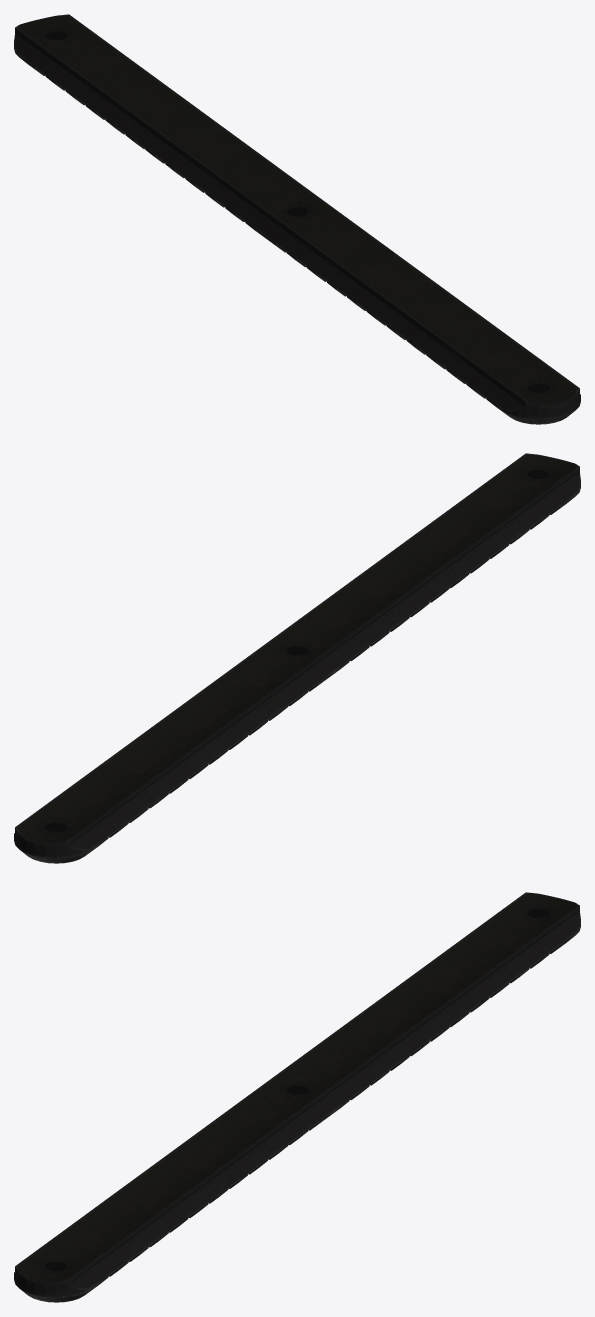
The picture shows the model from 3 angles, top to bottom: view 1: azimuth 30°, elevation 25°; view 2: azimuth 150°, elevation 25°; view 3: azimuth 330°, elevation 25°; orthographic projection.
Parts seen in each view (by area): view 1: TW_5b30bc285acfc47a8608615d_PZ_Import; view 2: TW_5b30bc285acfc47a8608615d_PZ_Import; view 3: TW_5b30bc285acfc47a8608615d_PZ_Import.
Boxes of the visible parts, x1,y1,x2,y2 form: TW_5b30bc285acfc47a8608615d_PZ_Import: (14, 14, 580, 424); TW_5b30bc285acfc47a8608615d_PZ_Import: (14, 453, 580, 863); TW_5b30bc285acfc47a8608615d_PZ_Import: (14, 892, 580, 1302).
Size of the model in its own units: 0.0122 by 0.1506 by 0.00421.
1 material, 1 textured.
